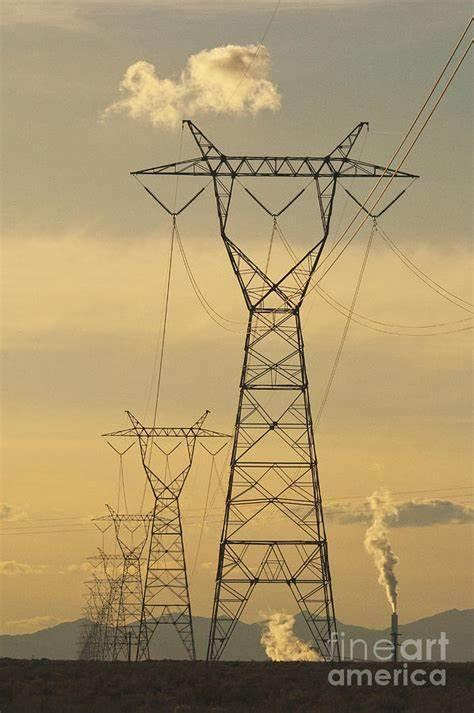power_tower: (132, 90, 426, 679), (107, 407, 233, 652)
